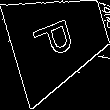P_E: (34, 14, 85, 65)
